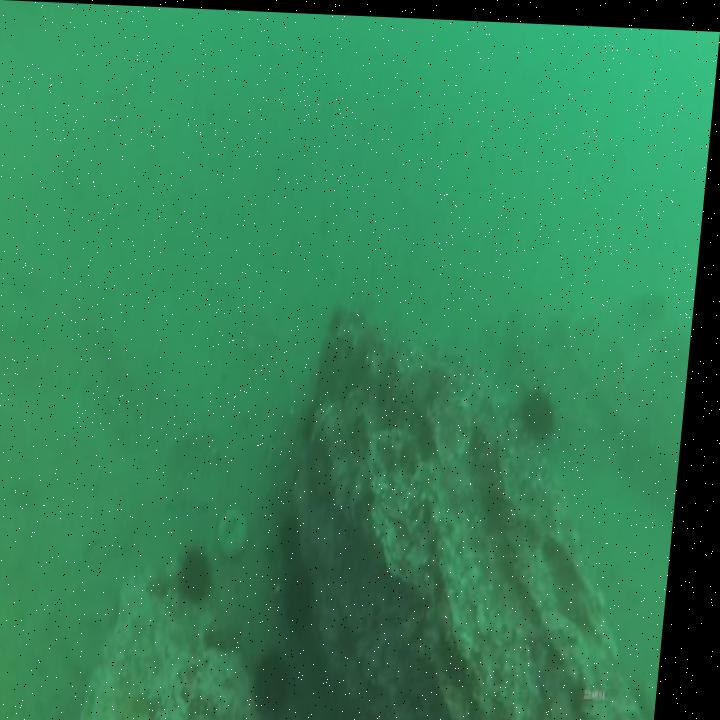echinus: (258, 646, 311, 720), (182, 539, 230, 610), (522, 373, 568, 439), (290, 563, 328, 634), (286, 509, 317, 571)
